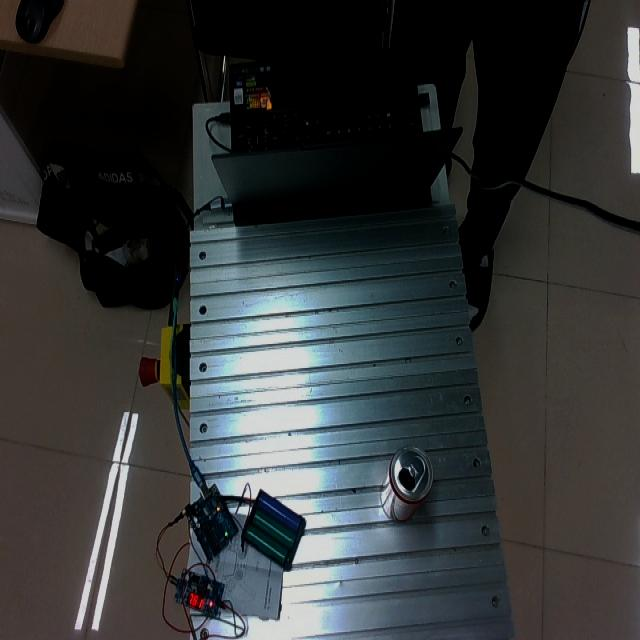coca: (380, 446, 433, 522)
